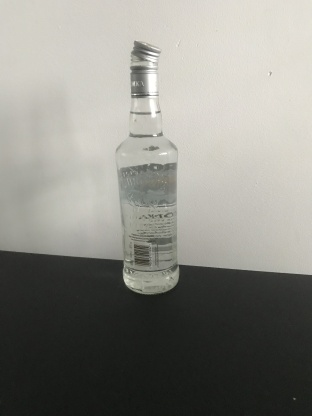nakretka: (128, 38, 162, 99)
